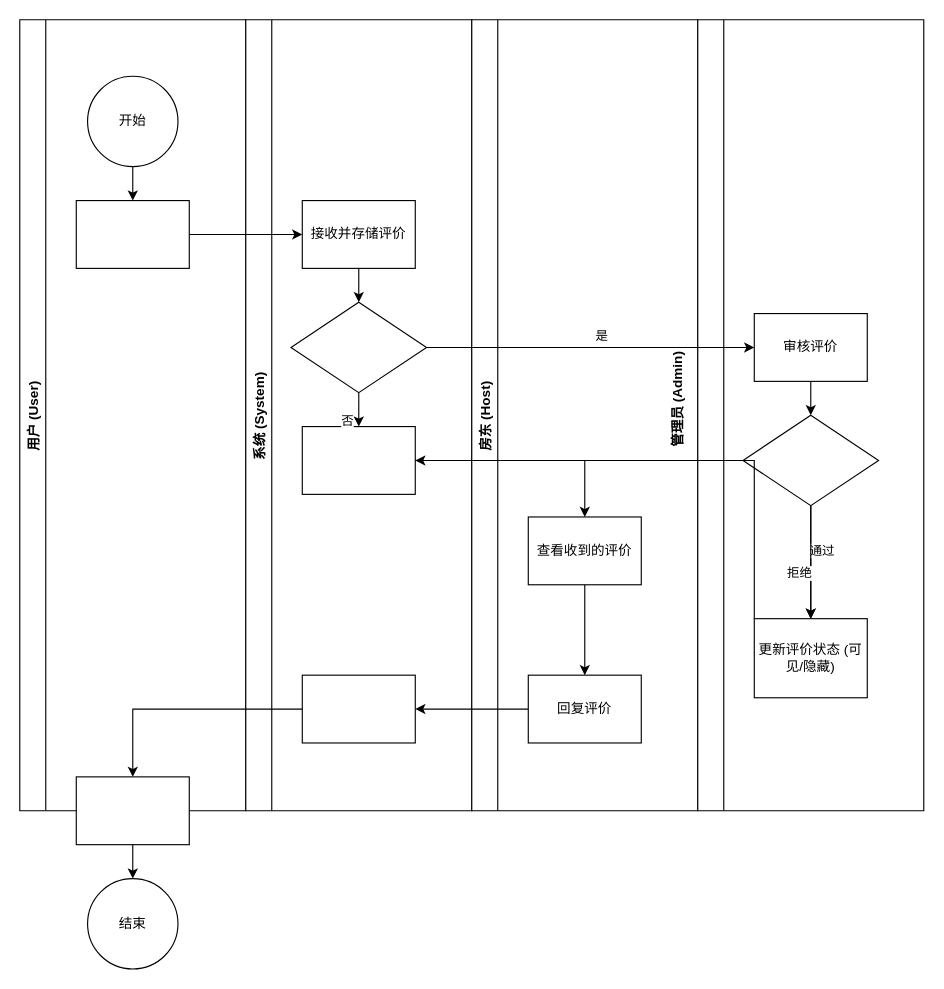
This 944x989 diagram has some shape labels left out. Here are the shapes that lost their labels. From the top down, the centre of each, then its label:
[132,233]: 提交评价
[358,347]: 是否需要审核？
[358,459]: 通知房东有新评价
[810,460]: 通过/拒绝？
[358,708]: 存储房东回复
[132,810]: 通知用户有新回复
